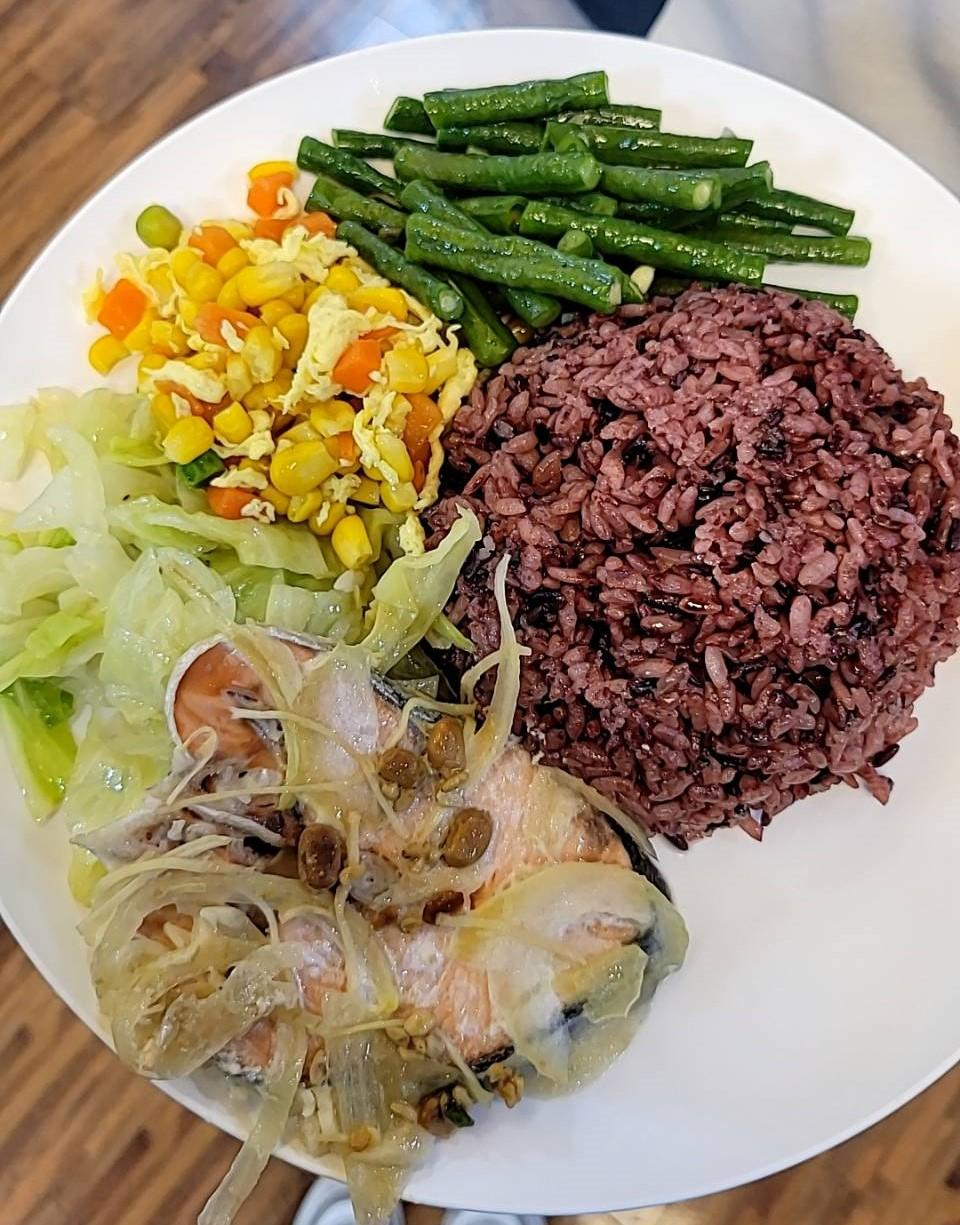big fried chicken leg: (11, 16, 960, 1213)
braised fish: (443, 288, 946, 835)
braised fish fillet: (0, 386, 439, 779), (293, 70, 859, 327), (93, 183, 465, 533)
brown rice: (83, 627, 666, 1166)
